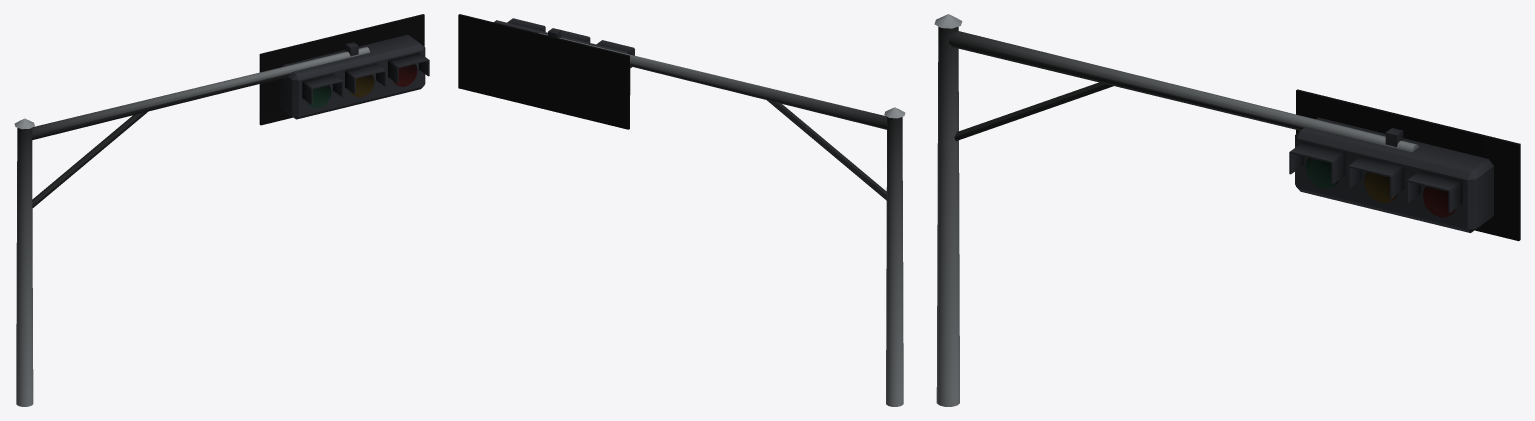
Rendered from prop.town.signal_car.glb.
The picture shows the model from 3 angles, left to right: view 1: azimuth 30°, elevation 25°; view 2: azimuth 150°, elevation 25°; view 3: azimuth 330°, elevation 25°; orthographic projection. The views are drawn at different scales.
Parts seen in each view (by area): view 1: LOD0; view 2: LOD0; view 3: LOD0.
Boxes of the visible parts, left/top/right/bottom form: LOD0: left=14, top=14, right=429, bottom=406; LOD0: left=458, top=14, right=905, bottom=406; LOD0: left=934, top=14, right=1520, bottom=406.
Size of what is drawn, in the model's own units: 4.09 by 2.66 by 0.49.
